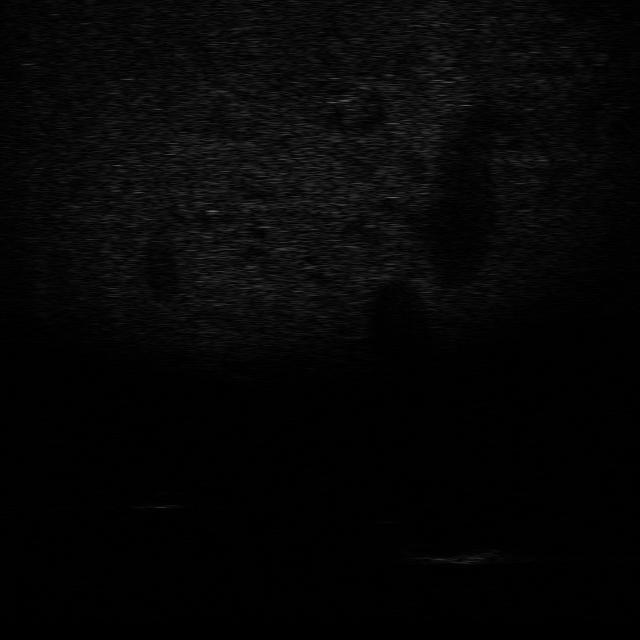ball: (131, 487, 189, 511)
metal bucket: (438, 542, 514, 570)
tyre: (370, 514, 442, 552)
